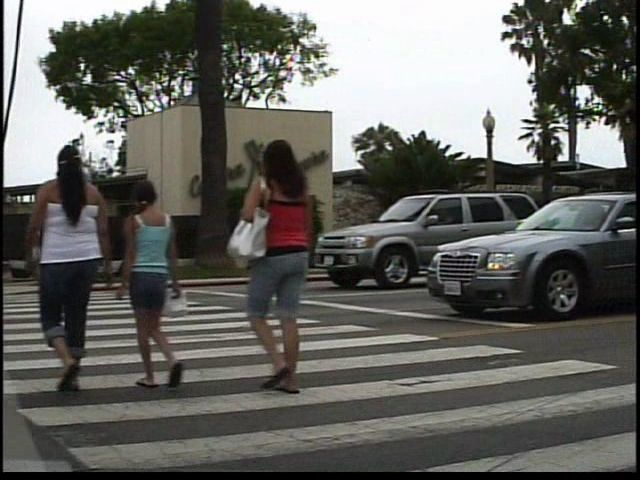person: (241, 135, 347, 403), (63, 141, 160, 401), (131, 176, 205, 401)
